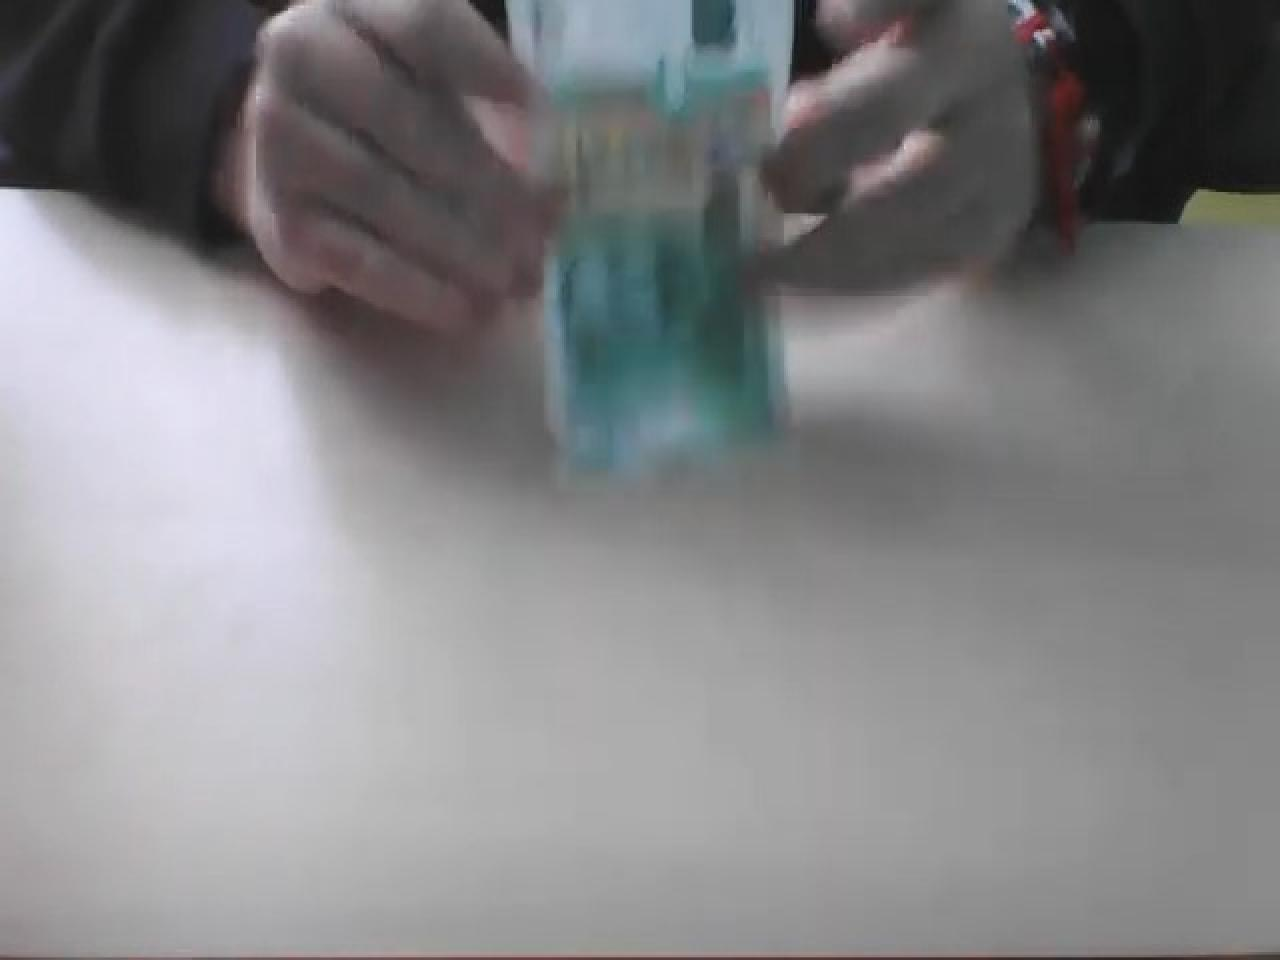100leva: (510, 0, 796, 485)
